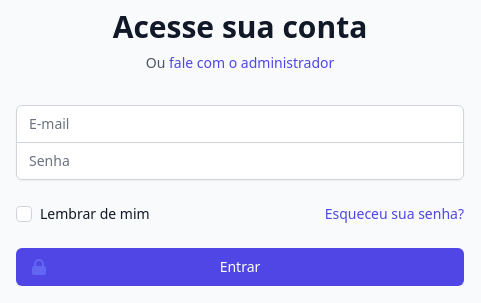
Test: Login › shows loading state when logging in
Fill out the form
Type "test@example.com" into the field labelled "E-mail" at (240, 124), box x1=16 y1=104 x2=464 y2=142
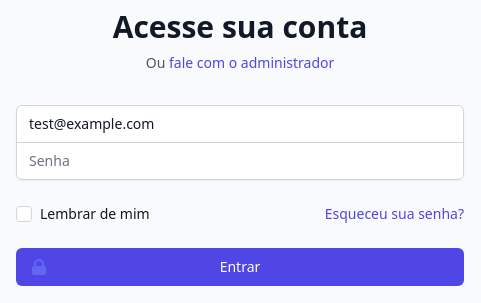
Type "password123" into the password field labelled "Senha" at (240, 160), box x1=16 y1=142 x2=464 y2=180
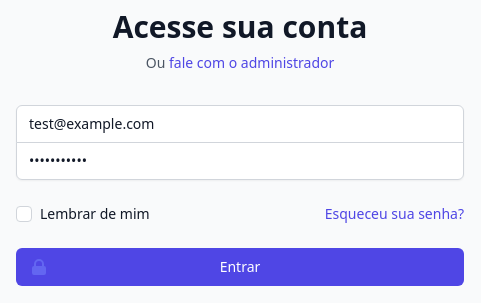
Submit the form
Click the button "Entrar" at (240, 266), box x1=16 y1=248 x2=464 y2=286
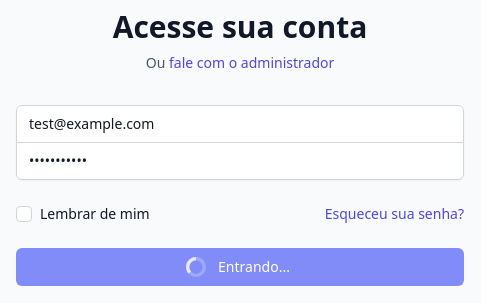
Expected: the button "Entrando..." is disabled, x1=16 y1=248 x2=464 y2=286
